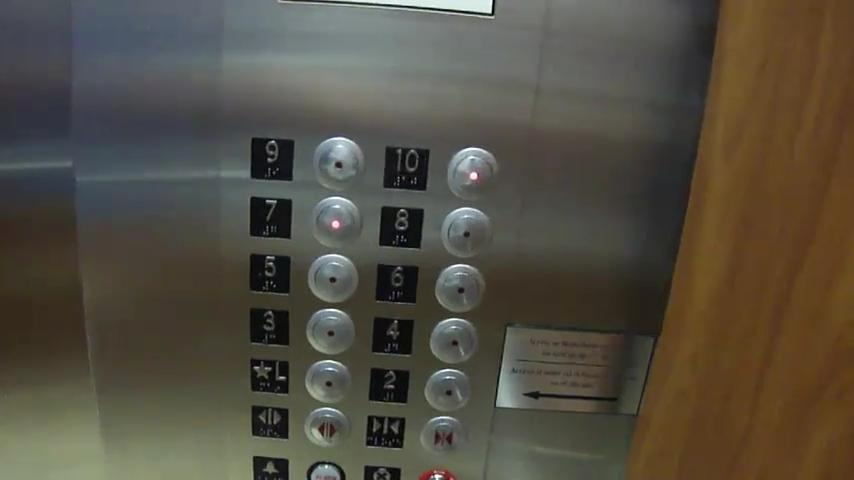10: (380, 141, 433, 195), (374, 200, 427, 254), (248, 132, 299, 185), (244, 191, 295, 244), (372, 259, 422, 306), (245, 250, 295, 297), (368, 312, 418, 359), (244, 303, 294, 350), (365, 363, 415, 410), (246, 354, 292, 398), (361, 413, 407, 452), (248, 403, 294, 442), (304, 407, 350, 446), (421, 416, 467, 455)
empty: (310, 131, 369, 194), (444, 147, 504, 205), (437, 205, 497, 263), (308, 194, 366, 250), (433, 264, 489, 316), (427, 315, 483, 367), (422, 364, 475, 415), (306, 252, 359, 303), (303, 304, 356, 355), (301, 357, 354, 408)
